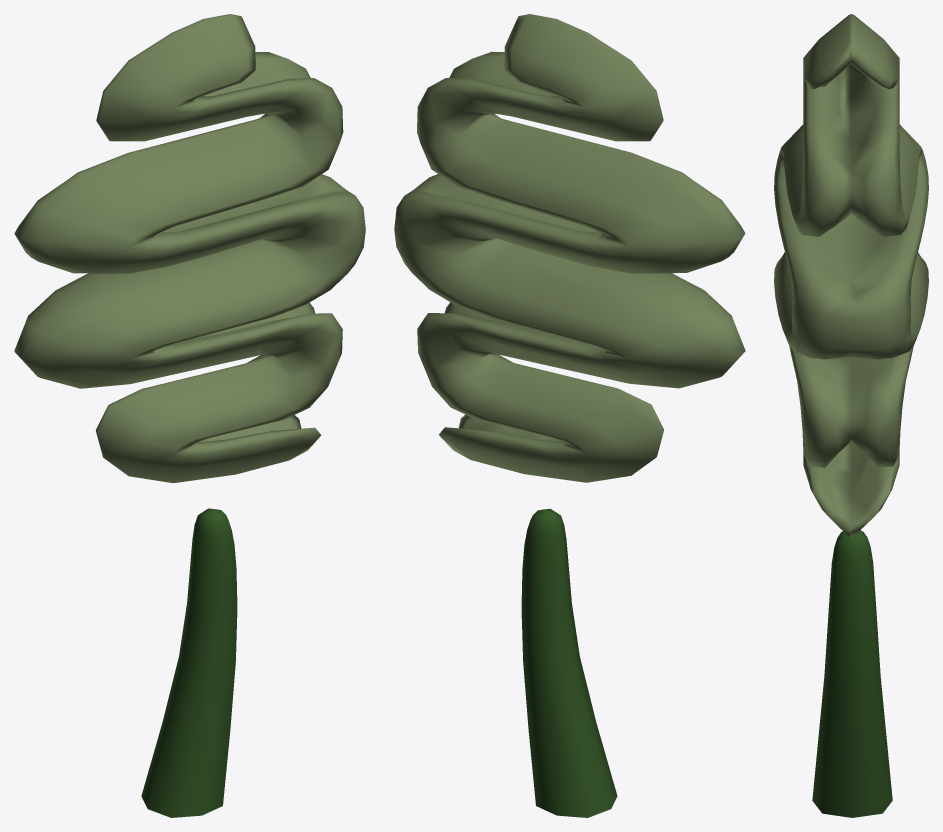
Rendered from n_tree_floating_1.glb.
3 views of the same model, side by side, from view 1: azimuth 30°, elevation 25°; view 2: azimuth 150°, elevation 25°; view 3: azimuth 270°, elevation 25° (orthographic).
Visible parts, largest first — view 1: Tree_Floating_1; view 2: Tree_Floating_1; view 3: Tree_Floating_1.
Boxes of the visible parts, bbox=[...] form: Tree_Floating_1: bbox=[14, 14, 365, 817]; Tree_Floating_1: bbox=[394, 14, 745, 817]; Tree_Floating_1: bbox=[774, 14, 928, 817].
Bounding box in the file's own units: 2.09 × 4.61 × 0.8258.
1 material, 1 textured.
